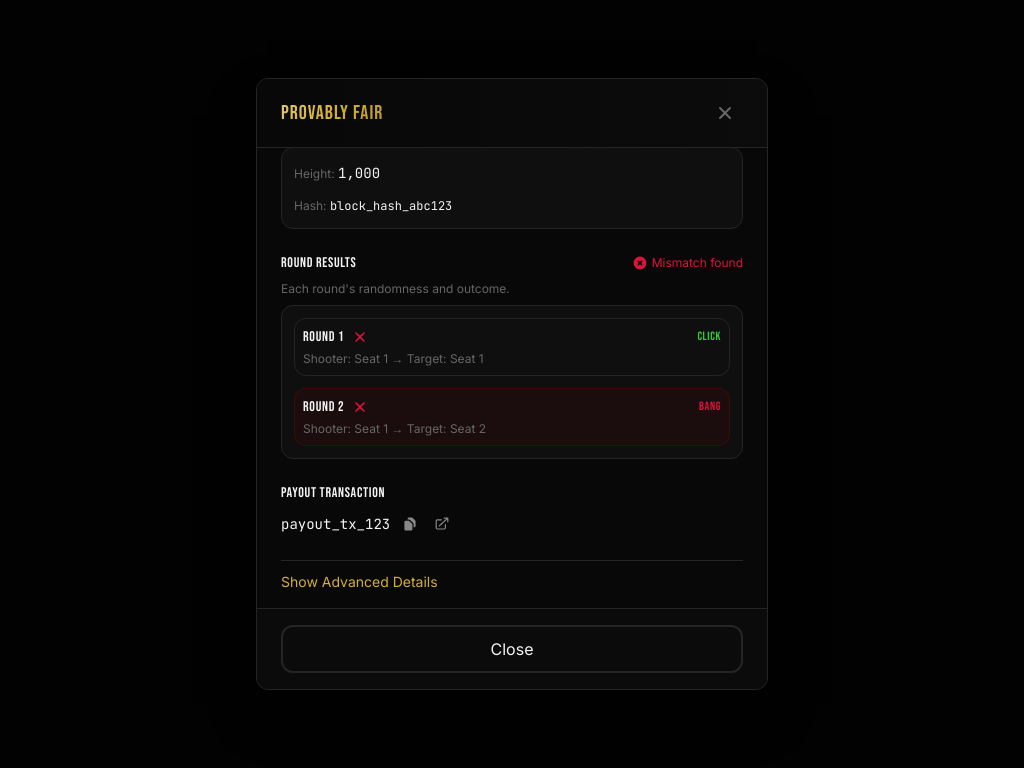
Test: ProvablyFairModal › toggles advanced details
(page scrolled)
Click the button "Show Advanced Details" at (359, 582), box top-left (281, 572), bottom-right (438, 592)
(page scrolled)
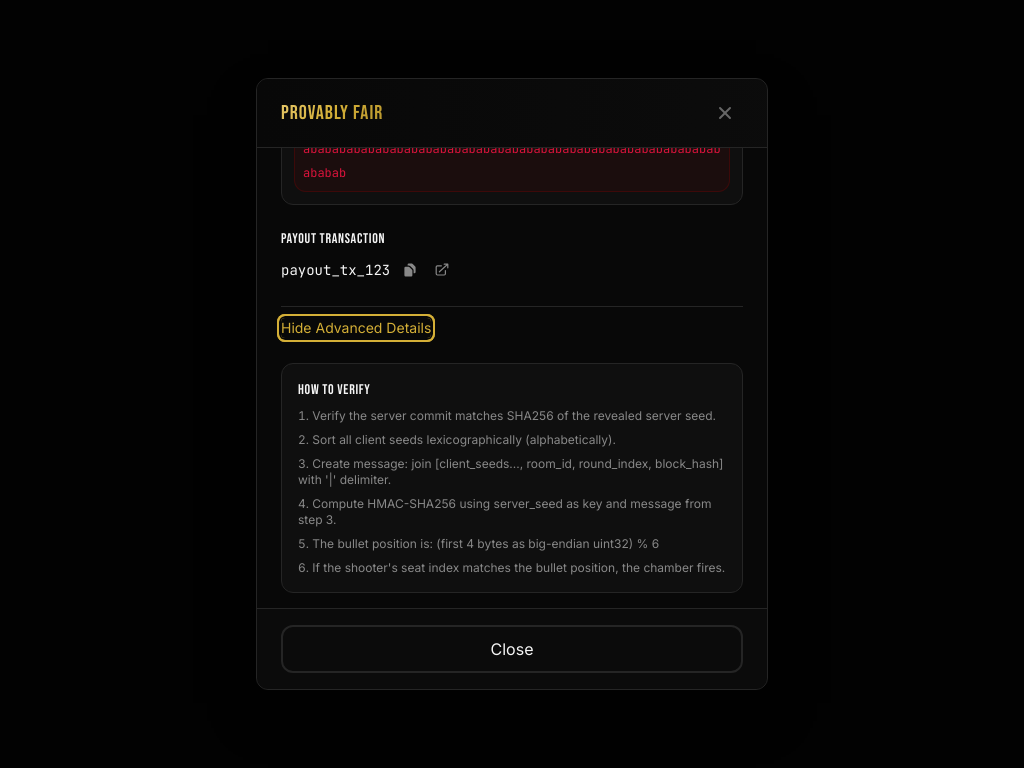
Result: the button "Hide Advanced Details" is shown at top-left (281, 318), bottom-right (431, 338)
Result: the heading "How to Verify" is shown at top-left (298, 381), bottom-right (371, 398)
